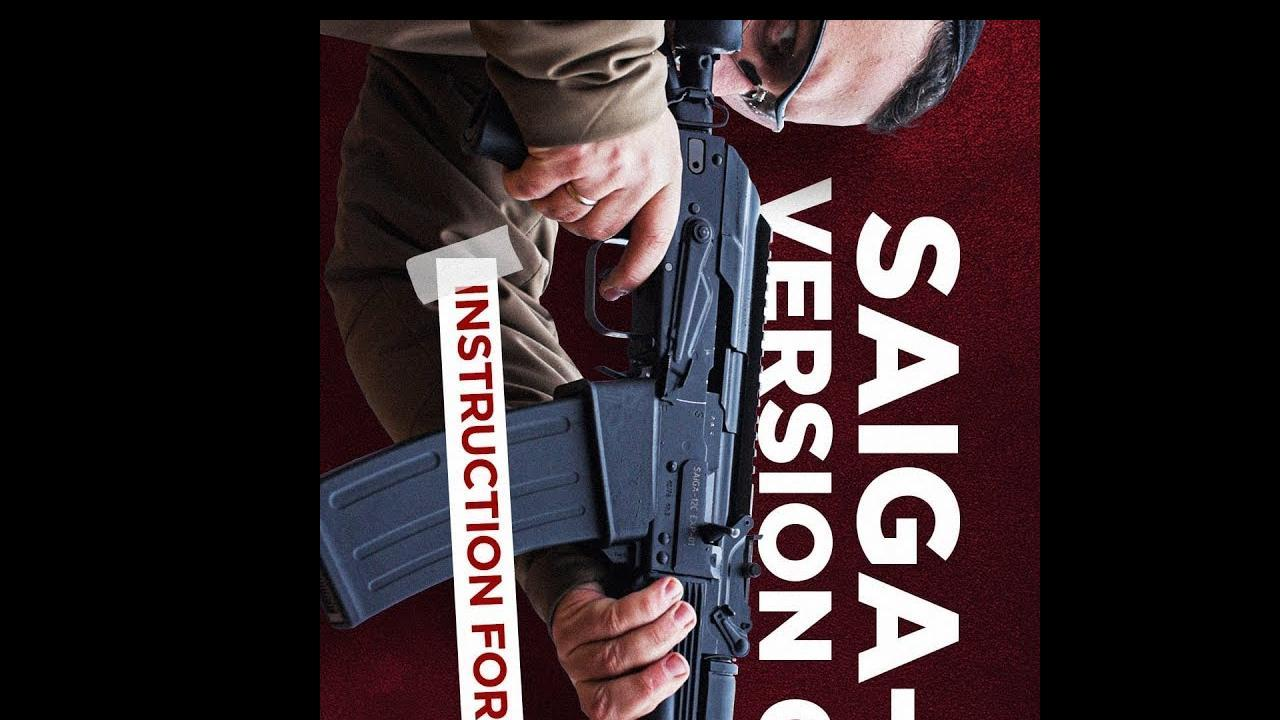larga: (321, 19, 772, 720)
